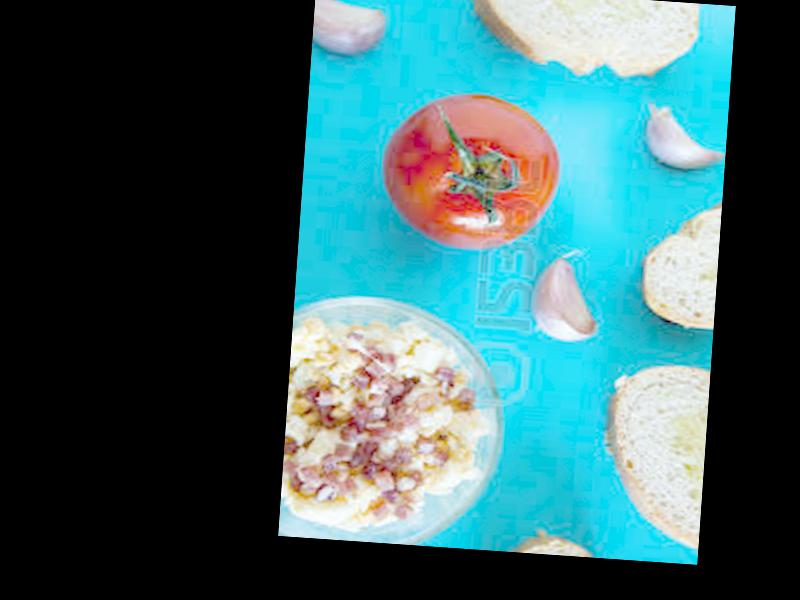Tomato: (379, 88, 565, 248)
